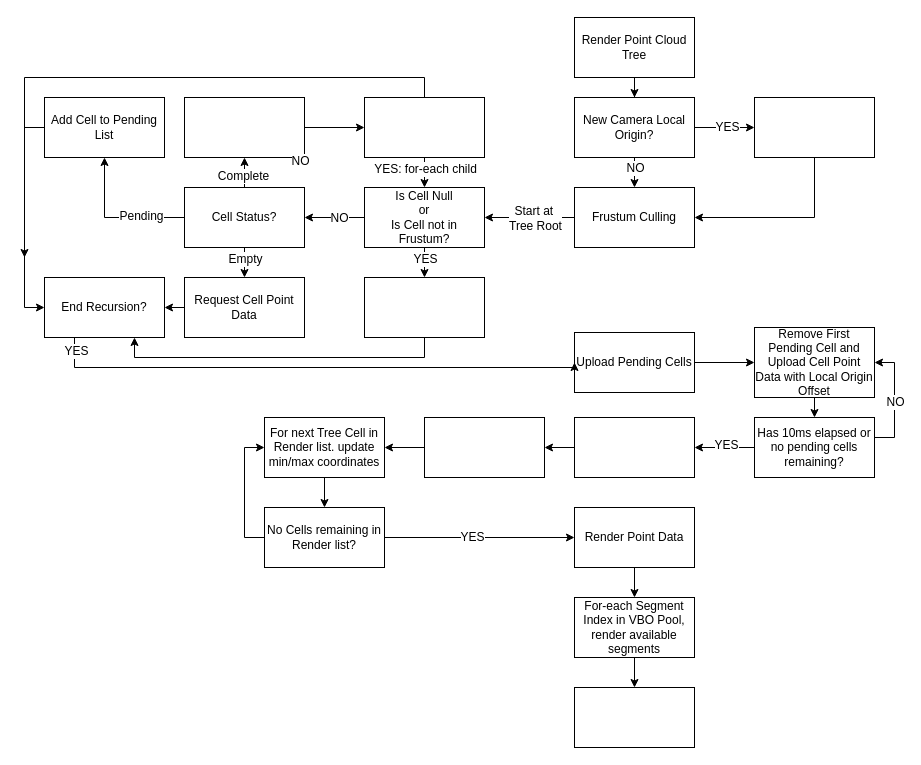
Image size: 921x765. Some labels were removed from this diagram. The centre of each missing label's shape, as x and y in pixels:
"Add Cell to Render List" belongs at [244,127].
"Build Point Data Bounding Volume" belongs at [634,447].
"Cell has Children?" belongs at [424,127].
"Done" belongs at [634,717].
"For- each Tree Cell: Clear Point Data and mark Pending" belongs at [814,127].
"Initialize min/max Cartesian Coordinates" belongs at [484,447].
"Remove Cell from View" belongs at [424,307].
